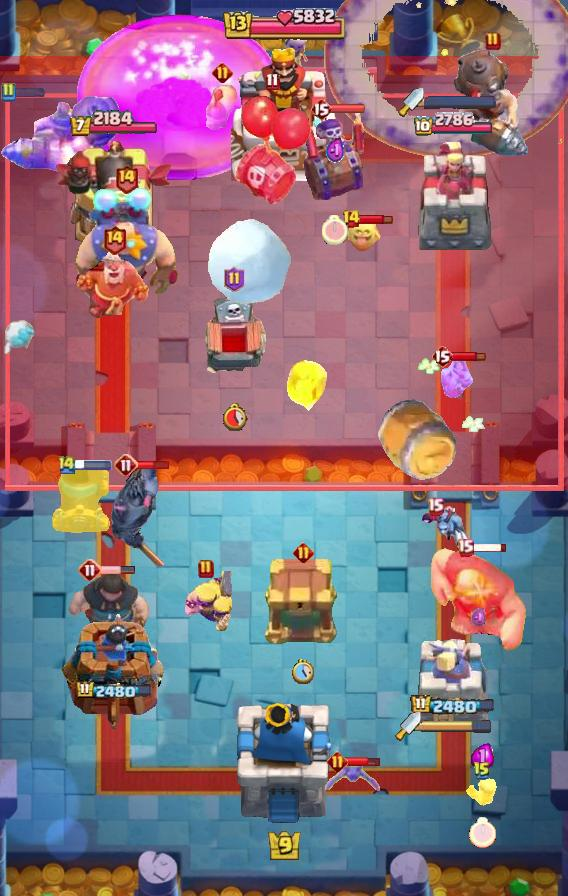arrows: (180, 571, 232, 631)
balloon: (430, 547, 528, 659)
bar: (412, 140, 494, 256), (416, 637, 490, 731)
barbarian: (323, 760, 383, 798)
bat: (0, 317, 38, 357)
bat-evolution: (341, 215, 383, 253)
bomb: (264, 558, 342, 646)
clock: (221, 5, 347, 45)
dirt: (373, 396, 459, 484)
electro-spirit: (471, 742, 494, 770), (326, 137, 345, 165), (471, 607, 488, 629)
elixir: (469, 816, 496, 847), (221, 402, 248, 431), (322, 215, 348, 245), (292, 659, 314, 685)
elixir-collector: (75, 246, 153, 320)
elixir-golem-mid: (199, 296, 269, 382)
emote: (345, 755, 381, 768), (359, 213, 394, 225), (451, 350, 486, 362), (137, 459, 172, 471), (471, 542, 509, 553), (10, 87, 46, 98), (330, 103, 366, 114), (75, 460, 113, 470), (100, 565, 136, 575)
executioner: (206, 78, 238, 130)
goblin: (282, 30, 312, 72)
golemite: (109, 465, 171, 569)
heal-spirit: (465, 777, 499, 809)
king-tower: (231, 45, 337, 181), (235, 703, 333, 826)
king-tower-bar: (424, 95, 496, 109), (421, 719, 493, 733)
knight-evolution: (76, 14, 283, 182)
little-prince: (71, 186, 181, 302)
musketeer: (50, 469, 110, 533)
queen-tower: (62, 613, 166, 731)
rocket: (324, 1, 568, 160)
royal-delivery: (419, 504, 471, 550), (435, 357, 475, 399)
royal-hog: (67, 572, 151, 650)
royal-recruit-evolution: (232, 94, 312, 208)
selected: (69, 110, 159, 138), (414, 112, 495, 138), (410, 694, 496, 717), (75, 679, 153, 700)
skeleton-king-bar: (302, 106, 368, 200)
text: (101, 224, 126, 255), (114, 163, 138, 194), (114, 453, 138, 477), (78, 558, 102, 582), (224, 266, 245, 292), (310, 97, 332, 121), (431, 344, 453, 368), (211, 61, 233, 83), (293, 541, 314, 562), (327, 751, 348, 772), (57, 453, 77, 475), (342, 209, 361, 229), (473, 761, 491, 781), (485, 31, 501, 51), (0, 82, 16, 102), (198, 559, 214, 579), (428, 497, 445, 515), (458, 539, 475, 557), (264, 73, 279, 91)
tower-bar: (53, 138, 175, 256)
valkyrie: (282, 357, 330, 419)
wall-breaker: (207, 219, 293, 306)
wizard: (0, 95, 124, 173), (453, 47, 533, 157)
